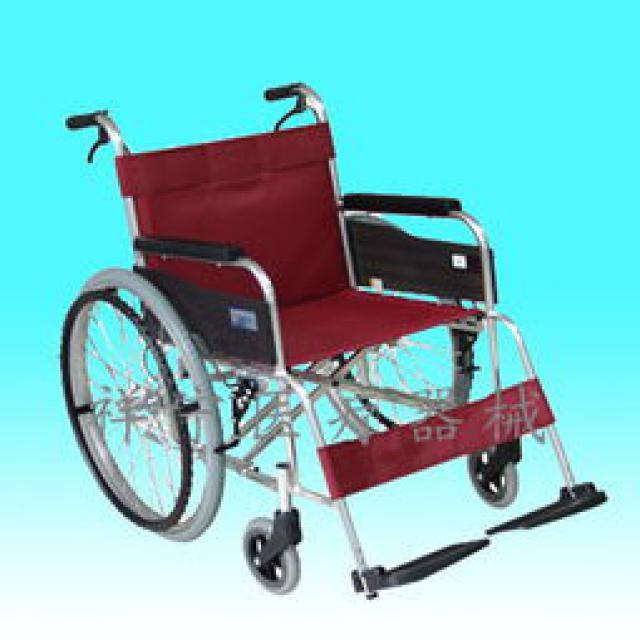wheelchair: (52, 75, 612, 598)
